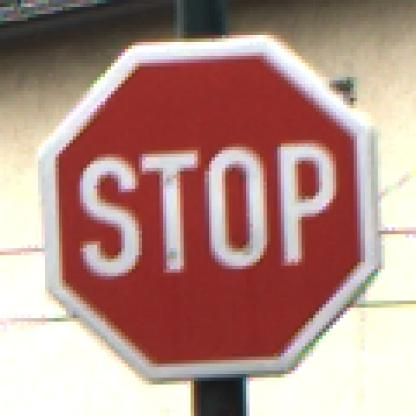stop: (28, 30, 393, 386)
